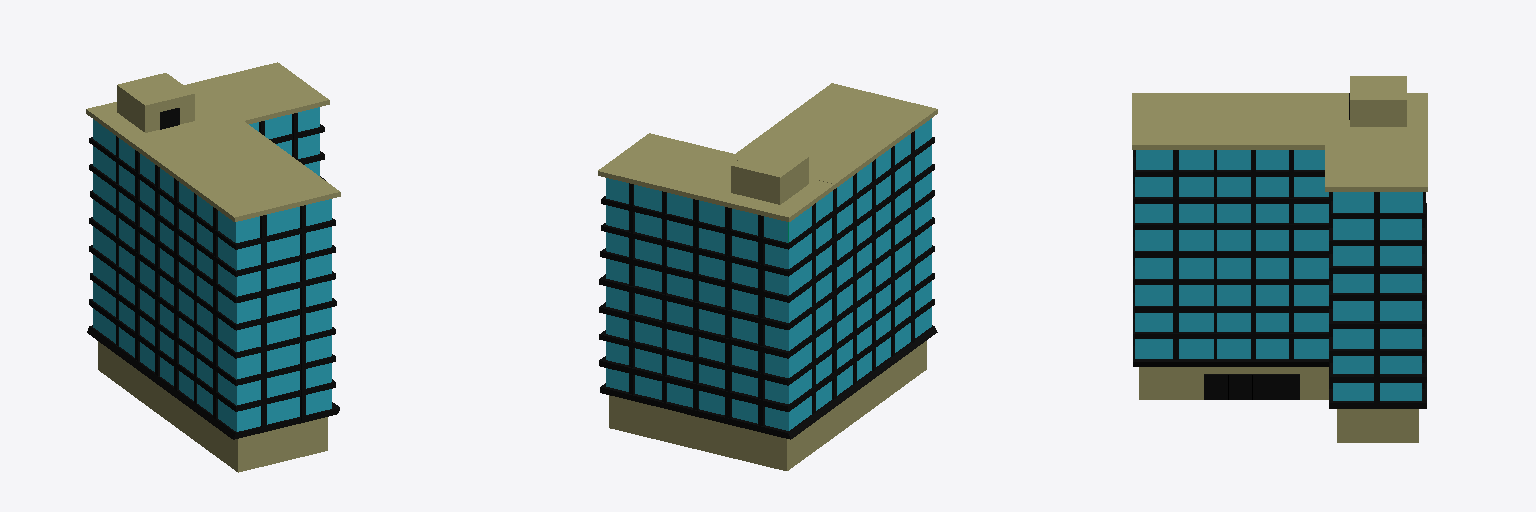
The model's file is bill2.obj.
3 views of the same model, side by side, from view 1: azimuth 30°, elevation 25°; view 2: azimuth 150°, elevation 25°; view 3: azimuth 270°, elevation 25° (orthographic).
Visible parts, largest first — view 1: Cube; view 2: Cube; view 3: Cube.
Boxes of the visible parts, box(x1,y1,x2,y2) form: Cube: box(86, 62, 340, 472); Cube: box(598, 83, 937, 470); Cube: box(1132, 76, 1427, 442).
Size of the model in its own units: 7.75 by 11.04 by 10.36.